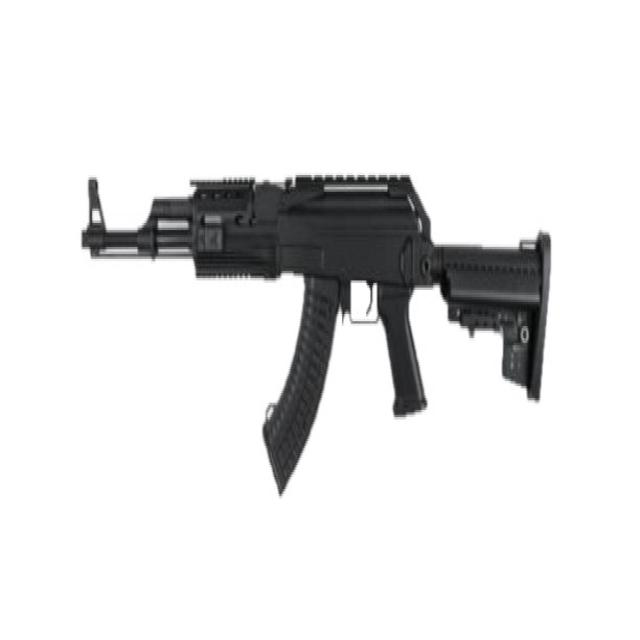rifle: (79, 160, 558, 508)
